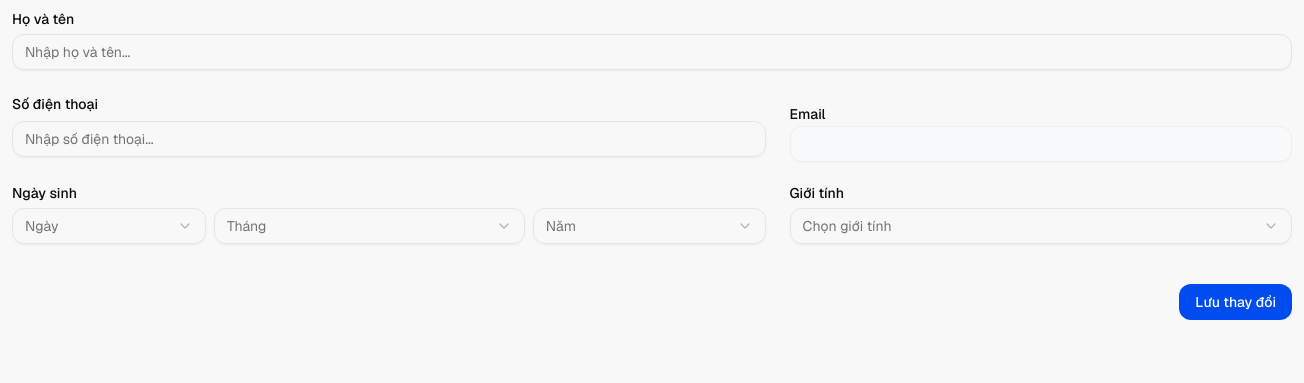
ProfileForm › shows validation errors when fields are empty
Click the button "Lưu thay đổi".
click(1236, 302)  # box [1179,284,1292,320]
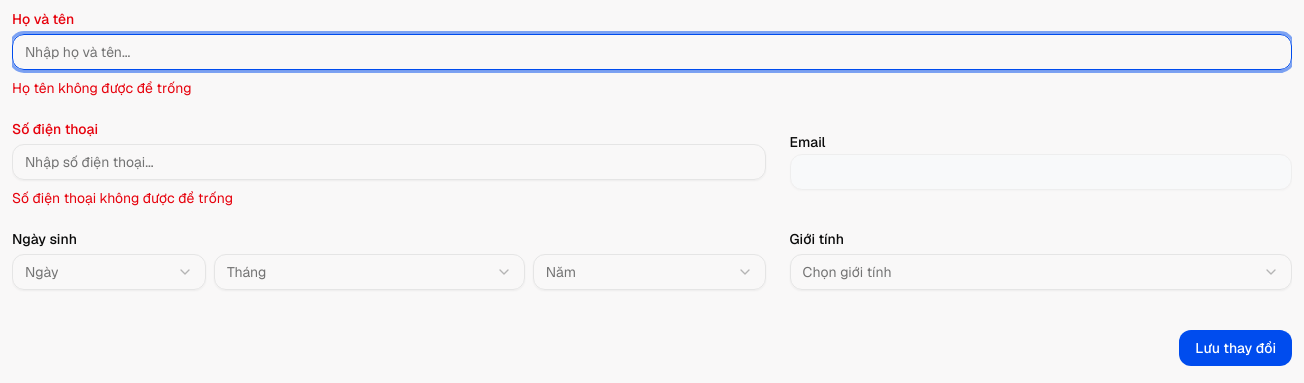
Result: the text "Họ tên không được để trống" is shown at [12,79,192,97]
